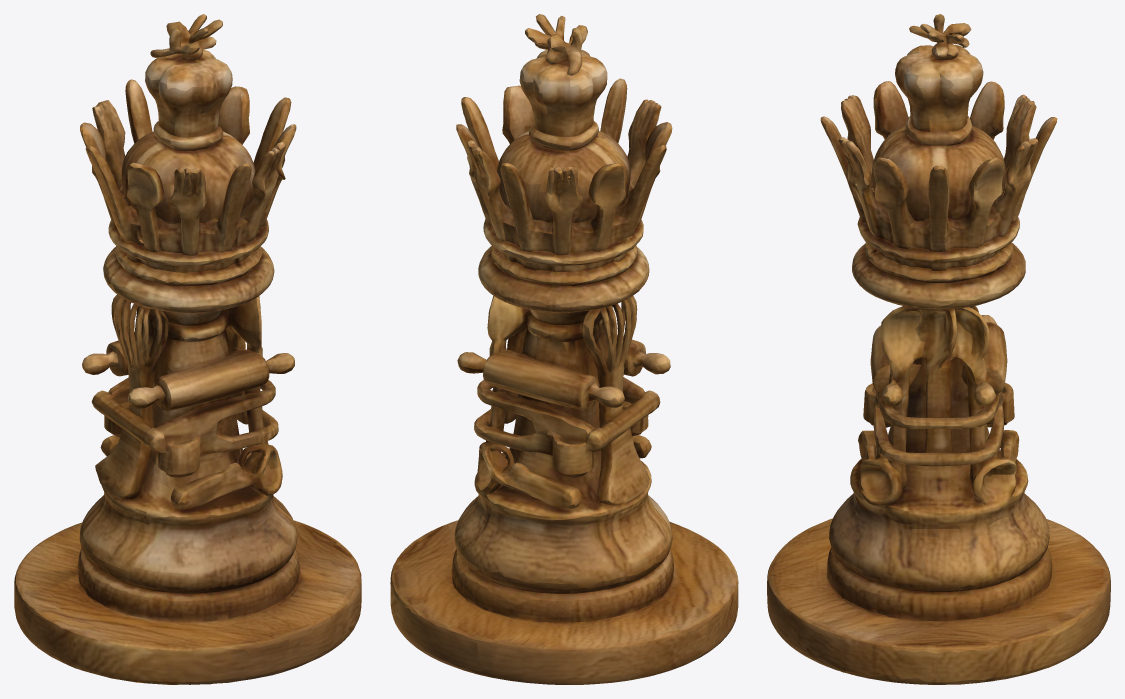
The picture shows the model from 3 angles, left to right: view 1: azimuth 30°, elevation 25°; view 2: azimuth 150°, elevation 25°; view 3: azimuth 270°, elevation 25°; orthographic projection.
Parts seen in each view (by area): view 1: world; view 2: world; view 3: world.
Boxes of the visible parts, x1,y1,x2,y2 form: world: (14,14,361,684); world: (390,14,738,684); world: (767,14,1110,684).
Bounding box in the file's own units: 0.2931 × 0.55 × 0.2882.
1 material, 1 textured.
